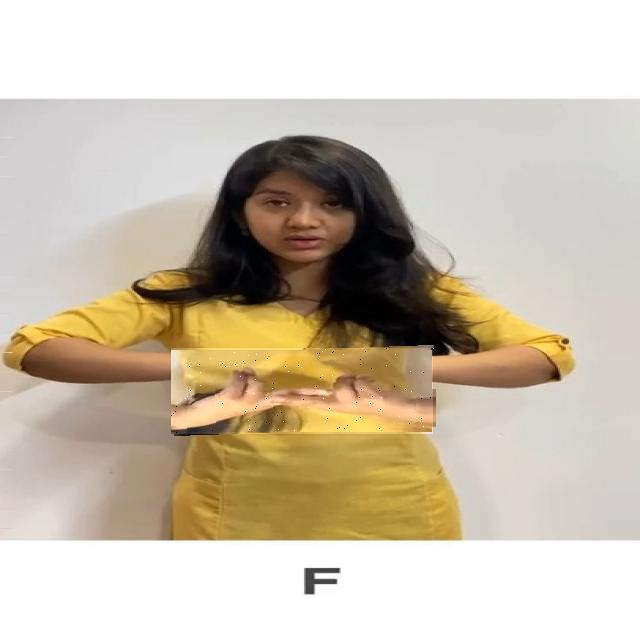F: (172, 348, 436, 434)
